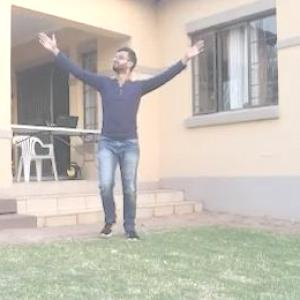takeoff: (50, 43, 211, 248)
